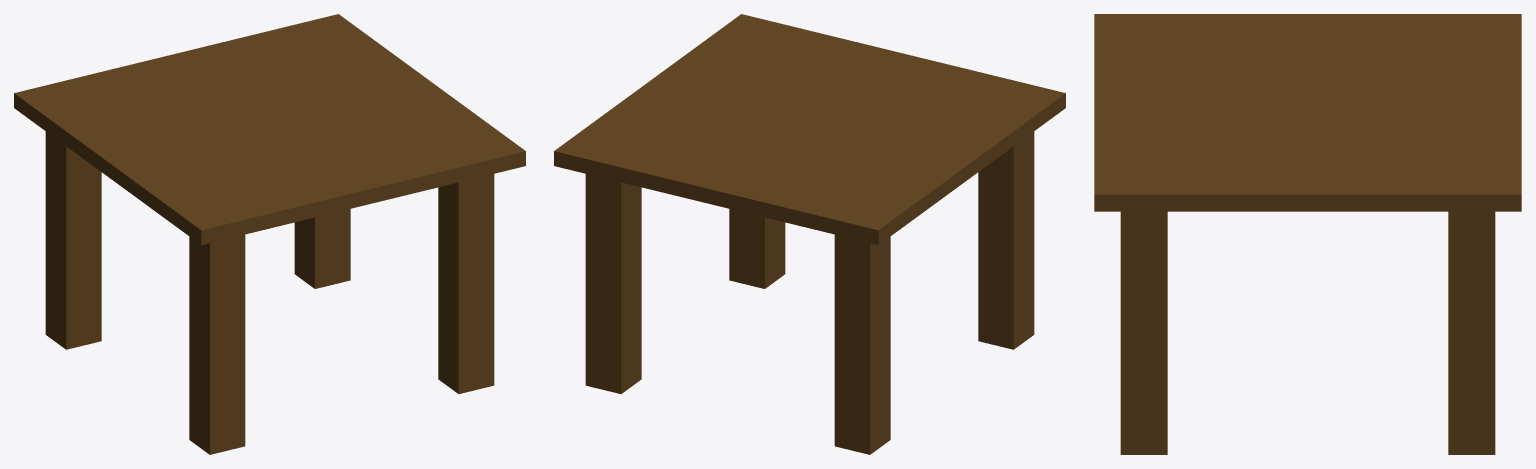
The model's file is table.glb.
3 renders of one model, left to right at view 1: azimuth 30°, elevation 25°; view 2: azimuth 150°, elevation 25°; view 3: azimuth 270°, elevation 25°, orthographic. The views are drawn at different scales.
Parts seen in each view (by area): view 1: Table; view 2: Table; view 3: Table.
Boxes of the visible parts, x1=… form: Table: x1=14, y1=14, x2=525, y2=454; Table: x1=554, y1=14, x2=1065, y2=454; Table: x1=1094, y1=14, x2=1521, y2=454.
Bounding box in the file's own units: 1.14 × 0.8 × 1.14.
